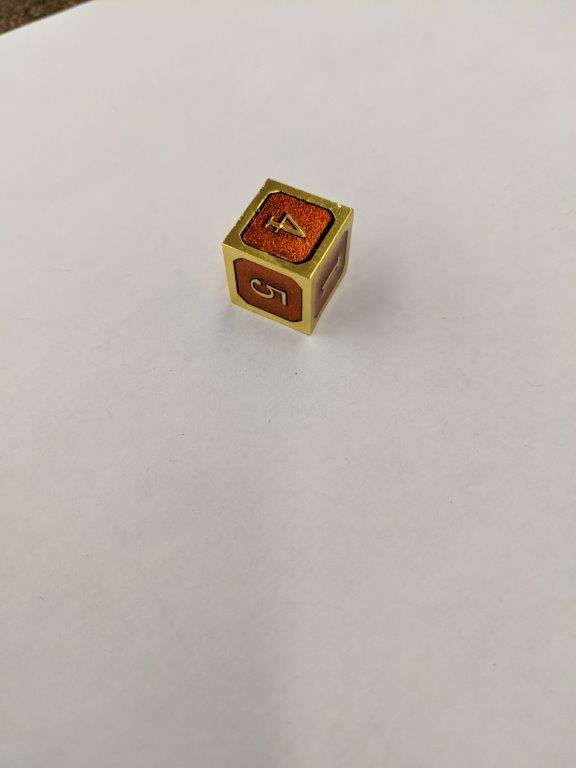d6-4: (222, 177, 353, 337)
